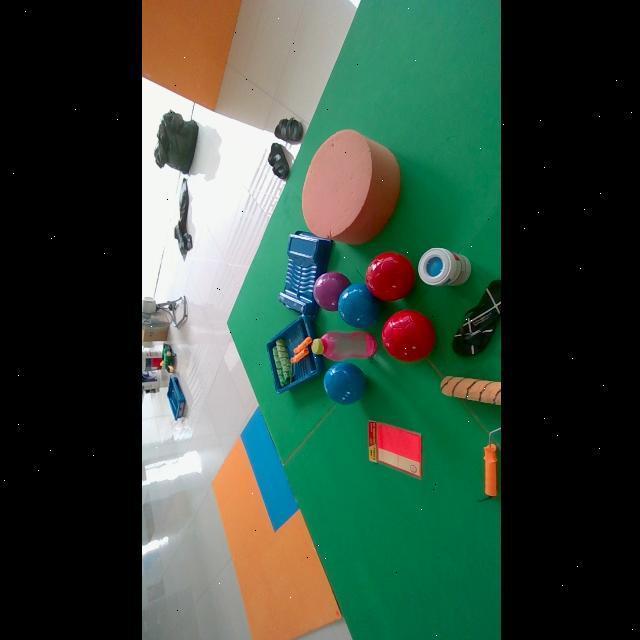B: (336, 284, 379, 328), (322, 363, 365, 405)
P: (312, 271, 349, 312)
R: (380, 311, 434, 363), (364, 252, 413, 302)
